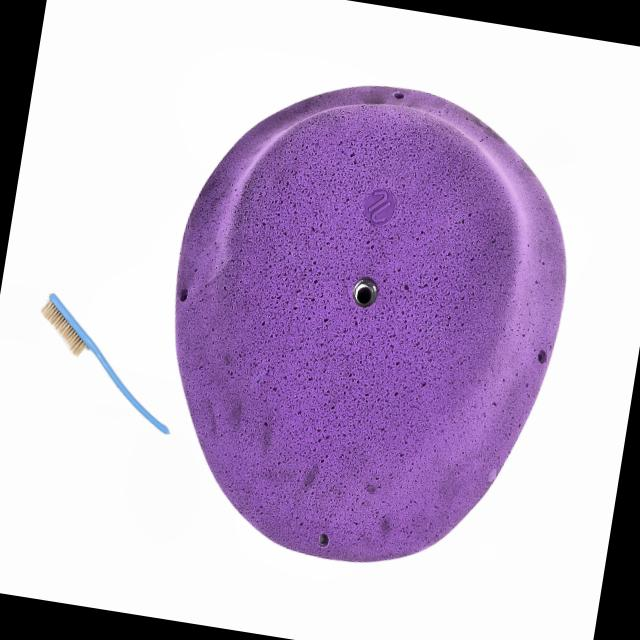Hold: (128, 53, 596, 591)
